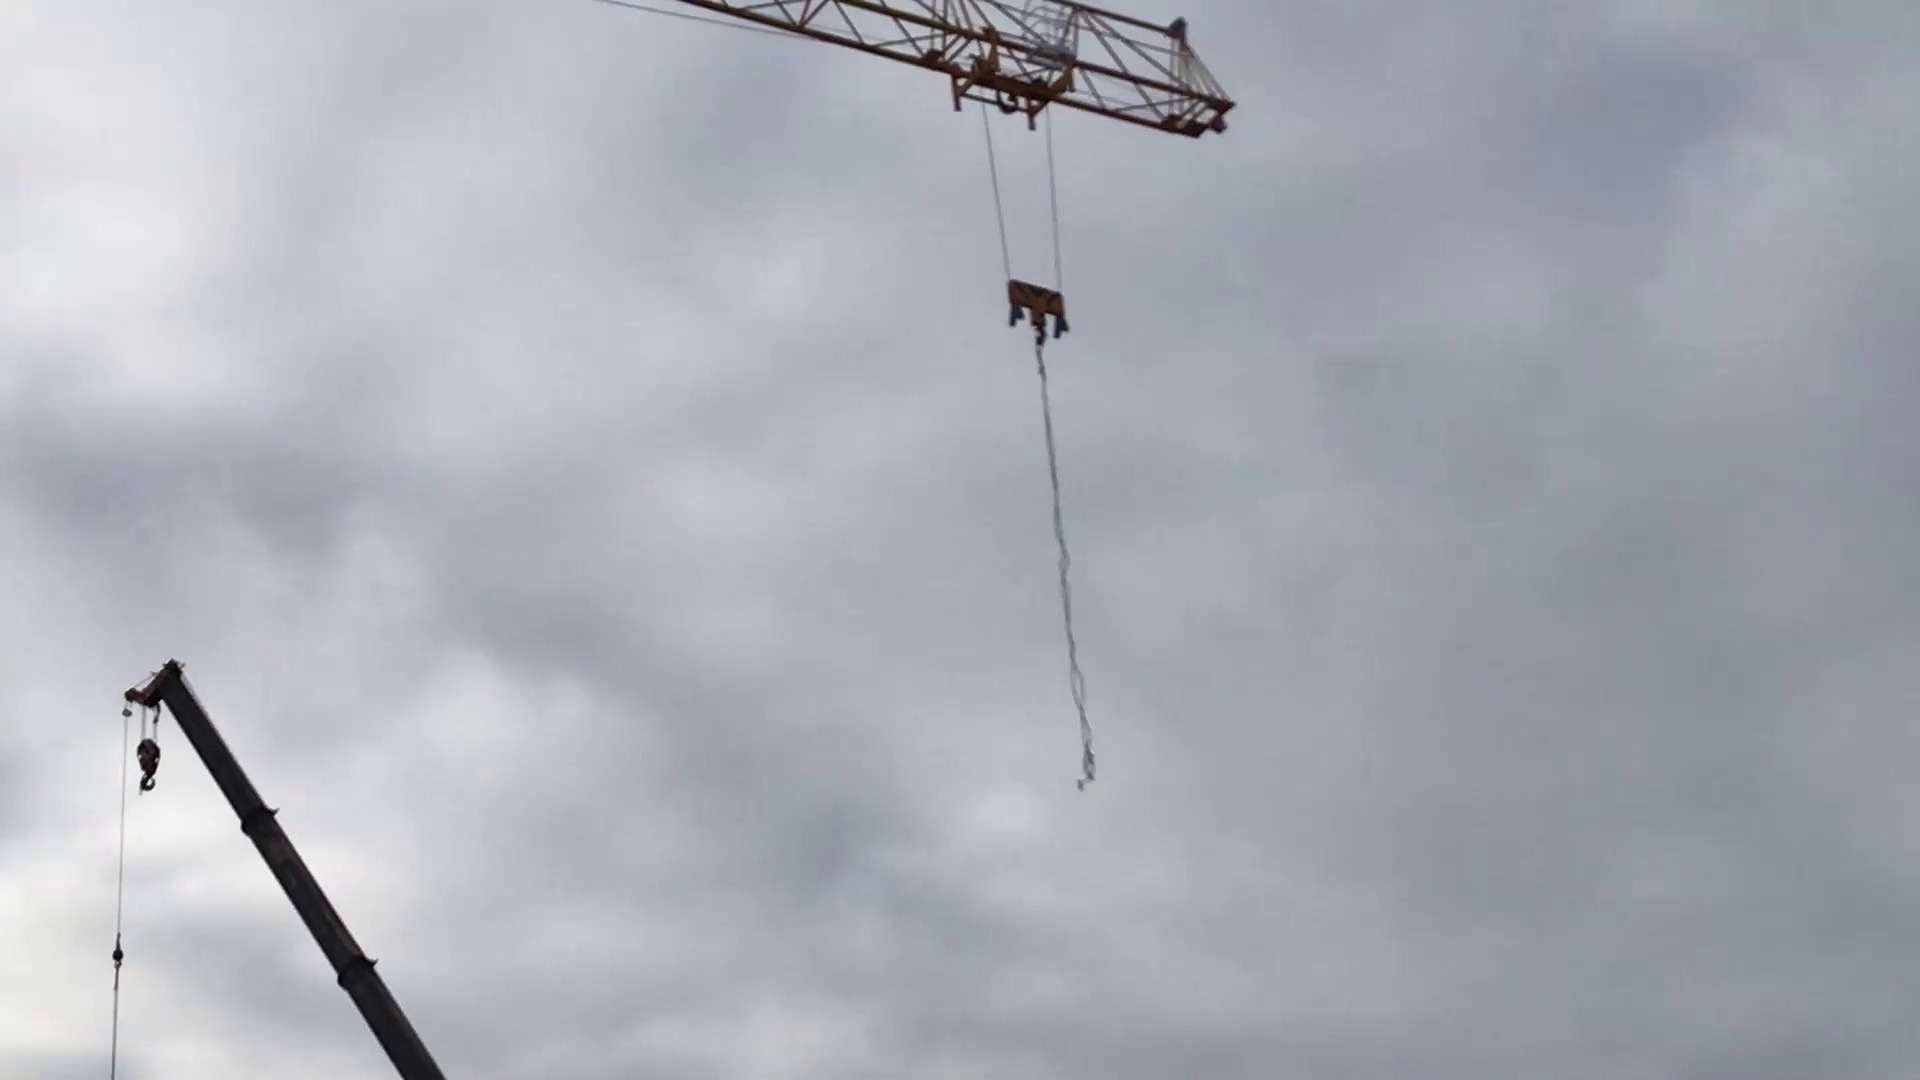hook: (1002, 272, 1075, 345)
